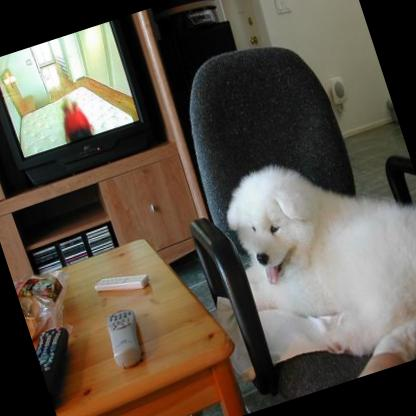Samoyed: (210, 122, 416, 401)
